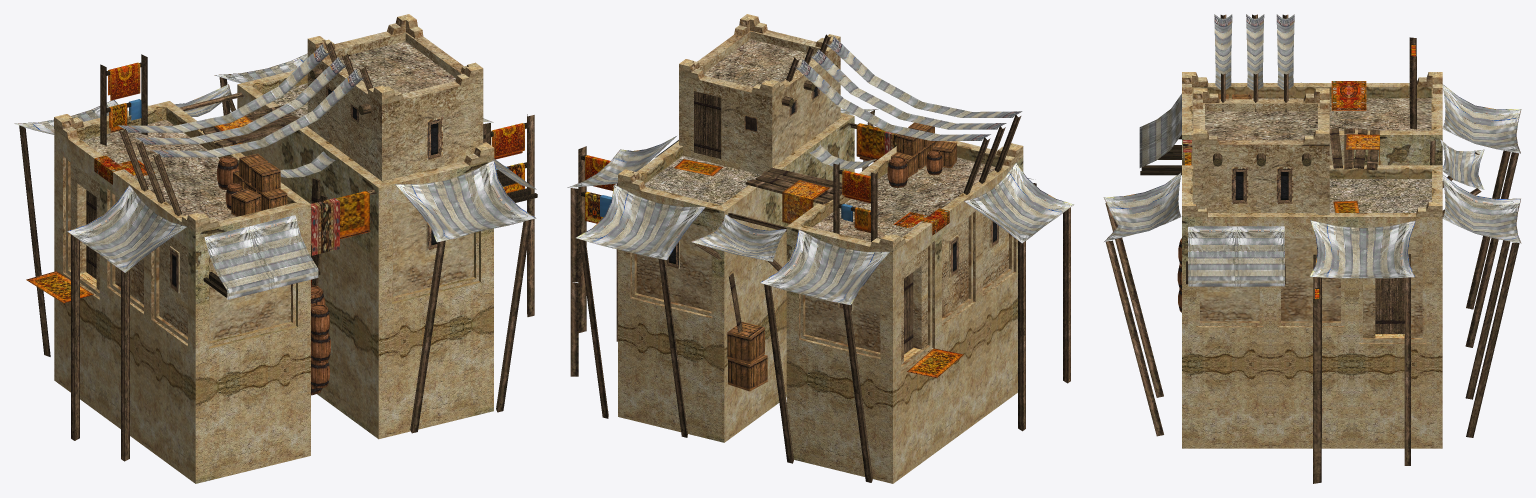
The model's file is pers_market_b.glb.
3 renders of one model, left to right at view 1: azimuth 30°, elevation 25°; view 2: azimuth 150°, elevation 25°; view 3: azimuth 270°, elevation 25°, orthographic. The views are drawn at different scales.
Bounding box in the file's own units: 26.06 × 18.61 × 21.6.
Materials: 1 (1 with a texture image).
